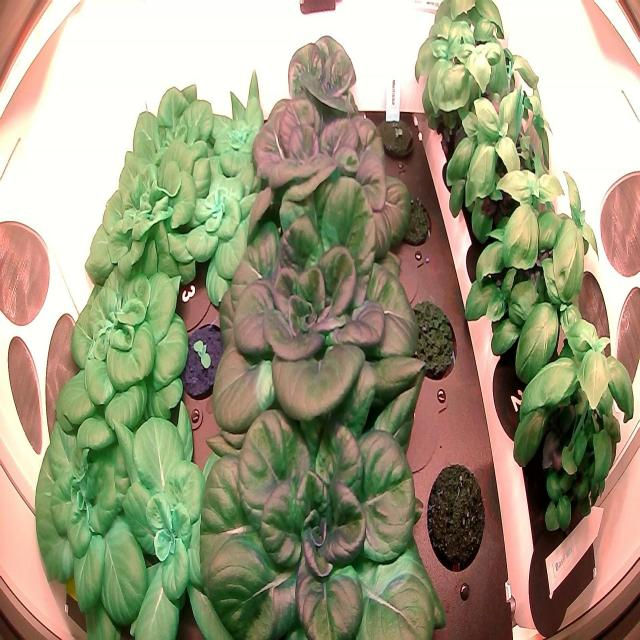germination: (174, 317, 235, 403), (373, 100, 422, 170)
pod: (422, 451, 488, 571), (404, 294, 458, 390), (390, 186, 438, 251)
young: (184, 358, 450, 640), (196, 166, 440, 469), (107, 403, 250, 639), (45, 262, 193, 448), (247, 89, 419, 249), (30, 414, 150, 640), (78, 127, 206, 301), (169, 144, 279, 312), (268, 27, 374, 152), (202, 63, 292, 207), (122, 74, 218, 194)
